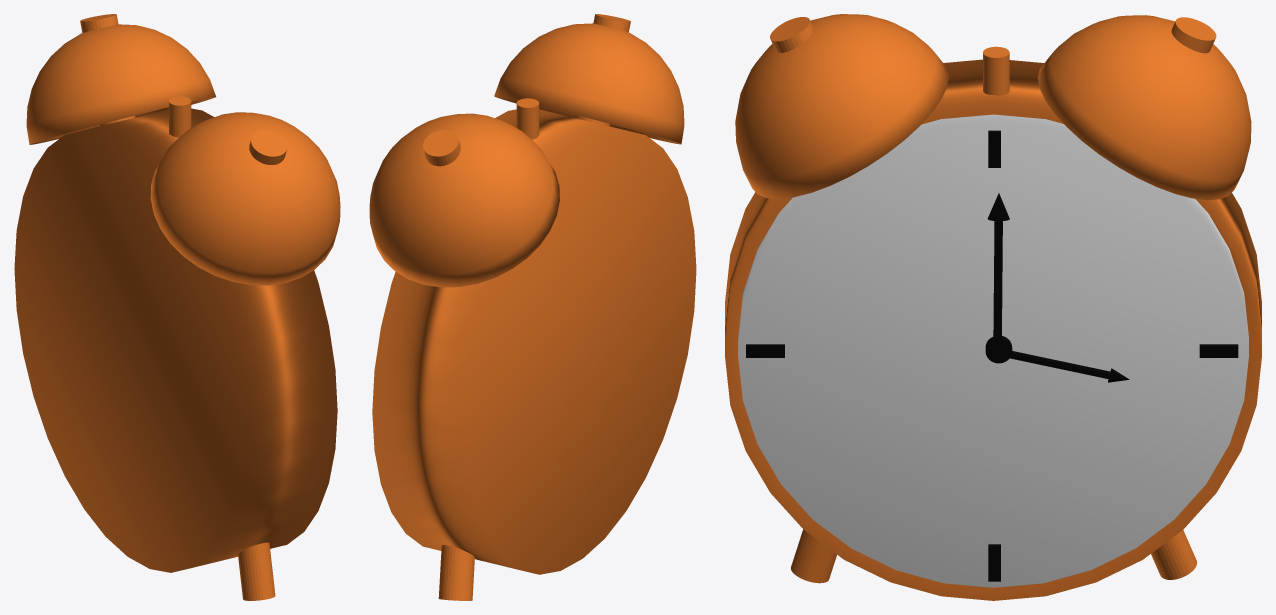
File: alarmclock.fbx
The picture shows the model from 3 angles, left to right: view 1: azimuth 30°, elevation 25°; view 2: azimuth 150°, elevation 25°; view 3: azimuth 270°, elevation 25°; orthographic projection. The views are drawn at different scales.
Visible parts, largest first — view 1: Cylinder, Sphere, Sphere.001, Cylinder.001, Cylinder.004, Cylinder.003, Cylinder.005; view 2: Cylinder, Sphere.001, Sphere, Cylinder.002, Cylinder.005, Cylinder.003, Cylinder.004; view 3: Cylinder.007, Sphere, Sphere.001, Cylinder, Cylinder.001, Cylinder.002, Cylinder.003, Cylinder.005, Cylinder.004, Cube, Cube.001.
Part boxes in pixels (x1,y1,x2,y2): Cylinder: [14, 108, 337, 572]; Sphere: [150, 112, 340, 285]; Sphere.001: [26, 24, 215, 144]; Cylinder.001: [238, 542, 275, 600]; Cylinder.004: [249, 130, 287, 164]; Cylinder.003: [169, 96, 191, 137]; Cylinder.005: [80, 14, 135, 126]; Cylinder: [372, 109, 696, 574]; Sphere.001: [369, 113, 559, 287]; Sphere: [494, 23, 684, 144]; Cylinder.002: [438, 545, 474, 600]; Cylinder.005: [423, 130, 460, 166]; Cylinder.003: [516, 98, 539, 139]; Cylinder.004: [574, 14, 630, 126]; Cylinder.007: [738, 114, 1248, 587]; Sphere: [735, 14, 948, 198]; Sphere.001: [1037, 15, 1251, 200]; Cylinder: [725, 59, 1261, 600]; Cylinder.001: [791, 529, 836, 583]; Cylinder.002: [1151, 530, 1197, 579]; Cylinder.003: [983, 46, 1009, 95]; Cylinder.005: [1171, 17, 1216, 53]; Cylinder.004: [770, 17, 813, 52]; Cube: [993, 221, 1002, 339]; Cube.001: [1010, 351, 1110, 379].
Size of the model in its own units: 17.48 by 46.93 by 40.93.
